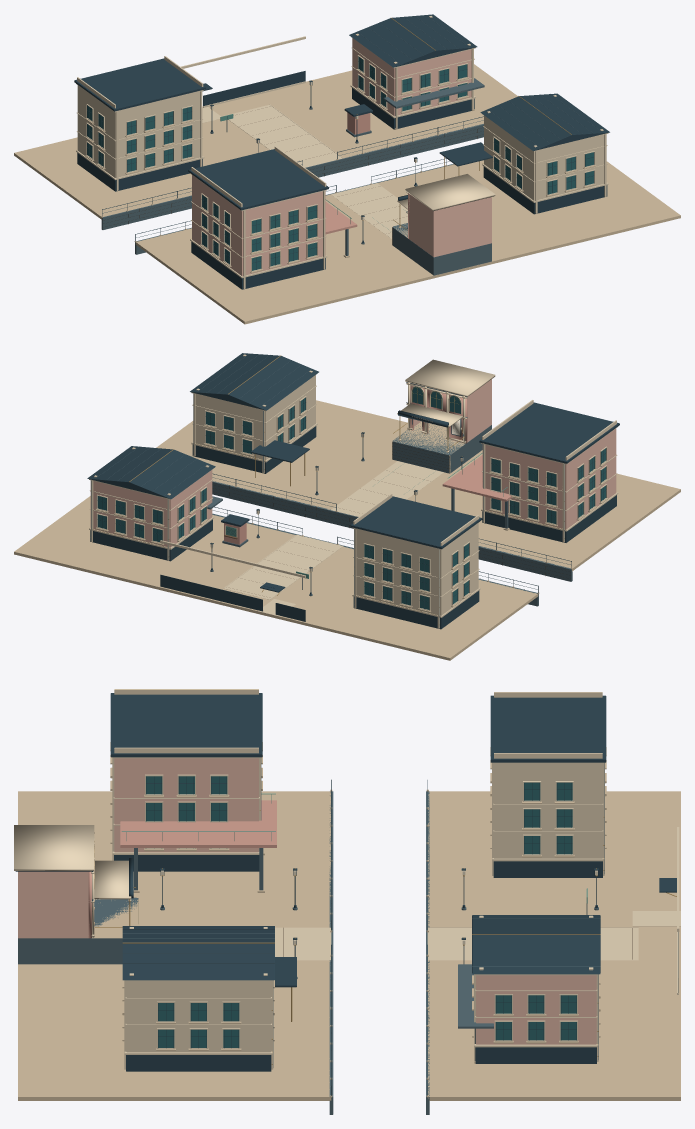
Rendered from jingwai-street.fbx.
The picture shows the model from 3 angles, top to bottom: view 1: azimuth 30°, elevation 25°; view 2: azimuth 150°, elevation 25°; view 3: azimuth 270°, elevation 25°; orthographic projection. The views are drawn at different scales.
Parts seen in each view (by area): view 1: Walkable_NorthBank, Walkable_SouthBank, NorthDistrict_deep_navy_wainscot, SouthDistrict_cream_plaster, SouthDistrict_deep_navy_wainscot, NorthDistrict_cream_plaster, NorthDistrict_muted_peach_highlight, RiverCanal_blue-grey_structure, CinemaForecourt_muted_peach_highlight, SouthDistrict_muted_peach_highlight, NorthDistrict_muted_blue_optical_glass, SouthDistrict_muted_blue_optical_glass (+7 smaller); view 2: Walkable_SouthBank, Walkable_NorthBank, SouthDistrict_deep_navy_wainscot, NorthDistrict_deep_navy_wainscot, SouthDistrict_cream_plaster, NorthDistrict_cream_plaster, NorthDistrict_muted_peach_highlight, RiverCanal_blue-grey_structure, SouthDistrict_muted_peach_highlight, SouthDistrict_muted_blue_optical_glass, NorthDistrict_muted_blue_optical_glass, CinemaForecourt_cream_plaster (+11 smaller); view 3: Walkable_NorthBank, Walkable_SouthBank, NorthDistrict_deep_navy_wainscot, SouthDistrict_deep_navy_wainscot, SouthDistrict_cream_plaster, NorthDistrict_cream_plaster, NorthDistrict_muted_peach_highlight, SouthDistrict_muted_peach_highlight, CinemaForecourt_cream_plaster, CinemaForecourt_muted_peach_highlight, NorthDistrict_apricot_plaster, SouthDistrict_muted_blue_optical_glass (+8 smaller).
Boxes of the visible parts, left/top/right/bottom form: Walkable_NorthBank: left=135, top=160, right=680, bottom=324; Walkable_SouthBank: left=14, top=64, right=517, bottom=219; NorthDistrict_deep_navy_wainscot: left=188, top=93, right=609, bottom=289; SouthDistrict_cream_plaster: left=76, top=16, right=475, bottom=190; SouthDistrict_deep_navy_wainscot: left=74, top=14, right=477, bottom=191; NorthDistrict_cream_plaster: left=190, top=95, right=608, bottom=288; NorthDistrict_muted_peach_highlight: left=192, top=175, right=325, bottom=276; RiverCanal_blue-grey_structure: left=101, top=120, right=483, bottom=254; CinemaForecourt_muted_peach_highlight: left=408, top=194, right=491, bottom=257; SouthDistrict_muted_peach_highlight: left=352, top=38, right=471, bottom=116; NorthDistrict_muted_blue_optical_glass: left=202, top=138, right=593, bottom=270; SouthDistrict_muted_blue_optical_glass: left=87, top=57, right=466, bottom=172; Walkable_SouthBank: left=14, top=496, right=538, bottom=660; Walkable_NorthBank: left=156, top=400, right=680, bottom=571; SouthDistrict_deep_navy_wainscot: left=87, top=446, right=482, bottom=629; NorthDistrict_deep_navy_wainscot: left=190, top=353, right=619, bottom=542; SouthDistrict_cream_plaster: left=89, top=447, right=480, bottom=628; NorthDistrict_cream_plaster: left=191, top=354, right=618, bottom=542; NorthDistrict_muted_peach_highlight: left=482, top=428, right=616, bottom=529; RiverCanal_blue-grey_structure: left=212, top=477, right=572, bottom=606; SouthDistrict_muted_peach_highlight: left=90, top=470, right=212, bottom=547; SouthDistrict_muted_blue_optical_glass: left=98, top=488, right=468, bottom=609; NorthDistrict_muted_blue_optical_glass: left=206, top=398, right=605, bottom=523; CinemaForecourt_cream_plaster: left=397, top=359, right=495, bottom=452; Walkable_NorthBank: left=18, top=791, right=331, bottom=1100; Walkable_SouthBank: left=428, top=791, right=680, bottom=1100; NorthDistrict_deep_navy_wainscot: left=110, top=693, right=297, bottom=1071; SouthDistrict_deep_navy_wainscot: left=461, top=695, right=678, bottom=1063; SouthDistrict_cream_plaster: left=427, top=692, right=680, bottom=1061; NorthDistrict_cream_plaster: left=112, top=689, right=331, bottom=1069; NorthDistrict_muted_peach_highlight: left=114, top=758, right=258, bottom=852; SouthDistrict_muted_peach_highlight: left=476, top=975, right=596, bottom=1044; CinemaForecourt_cream_plaster: left=14, top=825, right=131, bottom=937; CinemaForecourt_muted_peach_highlight: left=18, top=871, right=89, bottom=938; NorthDistrict_apricot_plaster: left=120, top=800, right=276, bottom=847; SouthDistrict_muted_blue_optical_glass: left=495, top=782, right=576, bottom=1040.
Size of what is drawn, in the model's own units: 60.18 by 13.09 by 55.32.
